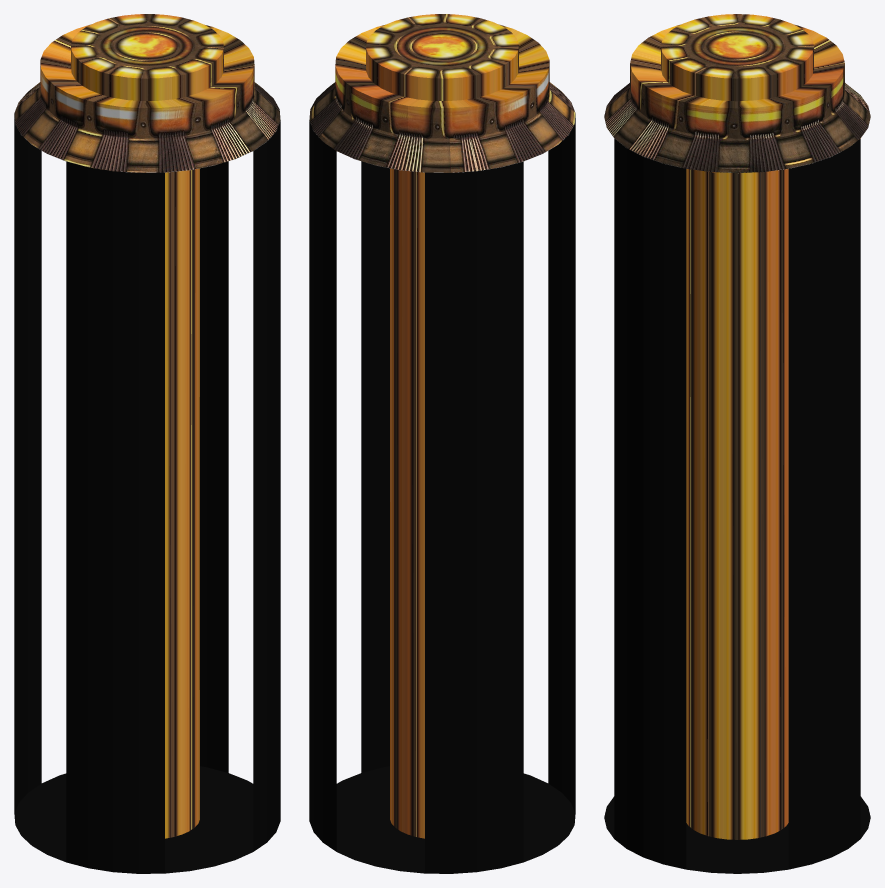
File: Reactor.fbx
3 views of the same model, side by side, from view 1: azimuth 30°, elevation 25°; view 2: azimuth 150°, elevation 25°; view 3: azimuth 270°, elevation 25° (orthographic).
Visible parts, largest first — view 1: Cylinder; view 2: Cylinder; view 3: Cylinder.
Part boxes in pixels (box(x1,y1,x2,y2)): Cylinder: box(14, 14, 280, 873); Cylinder: box(309, 14, 575, 873); Cylinder: box(604, 14, 870, 873).
Bounding box in the file's own units: 100 × 319 × 100.
